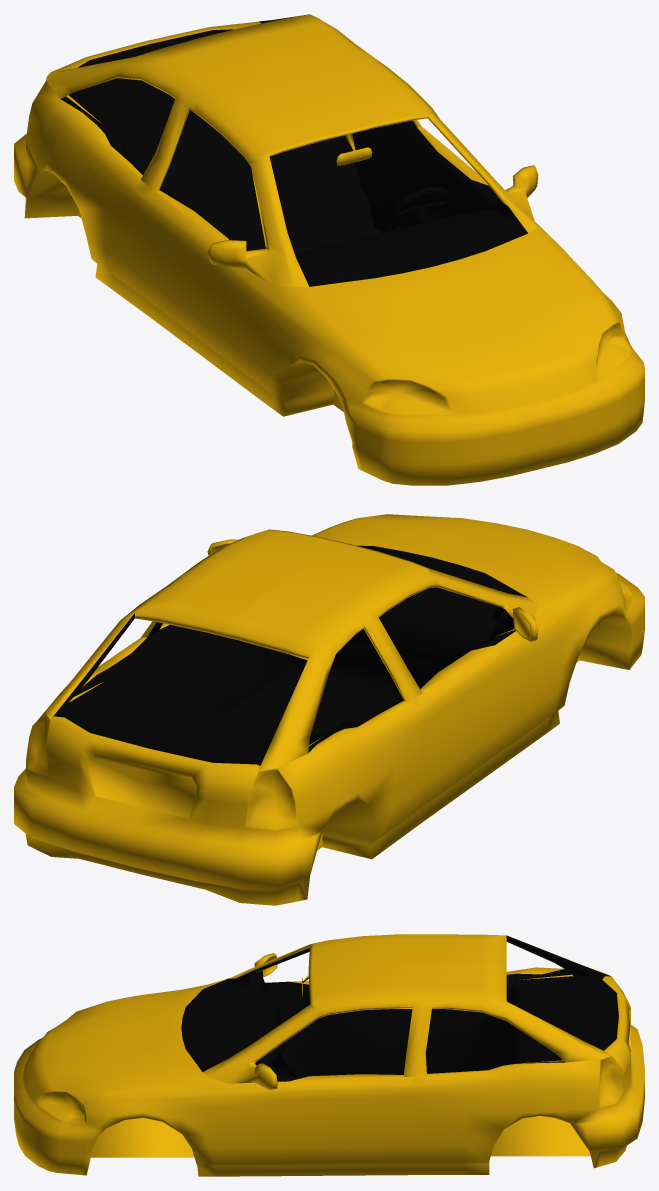
Rendered from CarFWD.fbx.
The picture shows the model from 3 angles, top to bottom: view 1: azimuth 30°, elevation 25°; view 2: azimuth 150°, elevation 25°; view 3: azimuth 270°, elevation 25°; orthographic projection. The views are drawn at different scales.
Parts seen in each view (by area): view 1: CHASSIS, STEERING; view 2: CHASSIS; view 3: CHASSIS, STEERING.
Part boxes in pixels (left/top/right/bottom): CHASSIS: left=14, top=14, right=644, bottom=485; STEERING: left=388, top=186, right=450, bottom=230; CHASSIS: left=14, top=514, right=644, bottom=905; CHASSIS: left=14, top=934, right=644, bottom=1176; STEERING: left=272, top=1040, right=301, bottom=1077.
Size of the model in its own units: 195 by 119 by 417.
